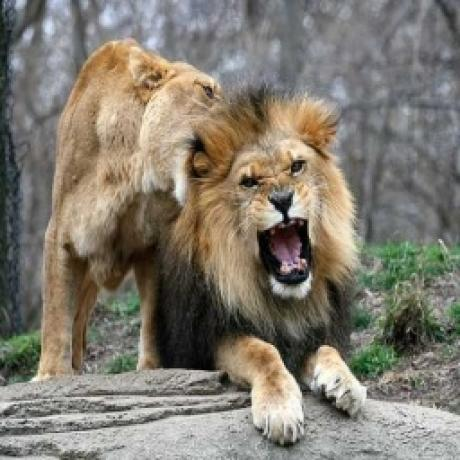Lion: (162, 88, 371, 444), (30, 30, 224, 382)
